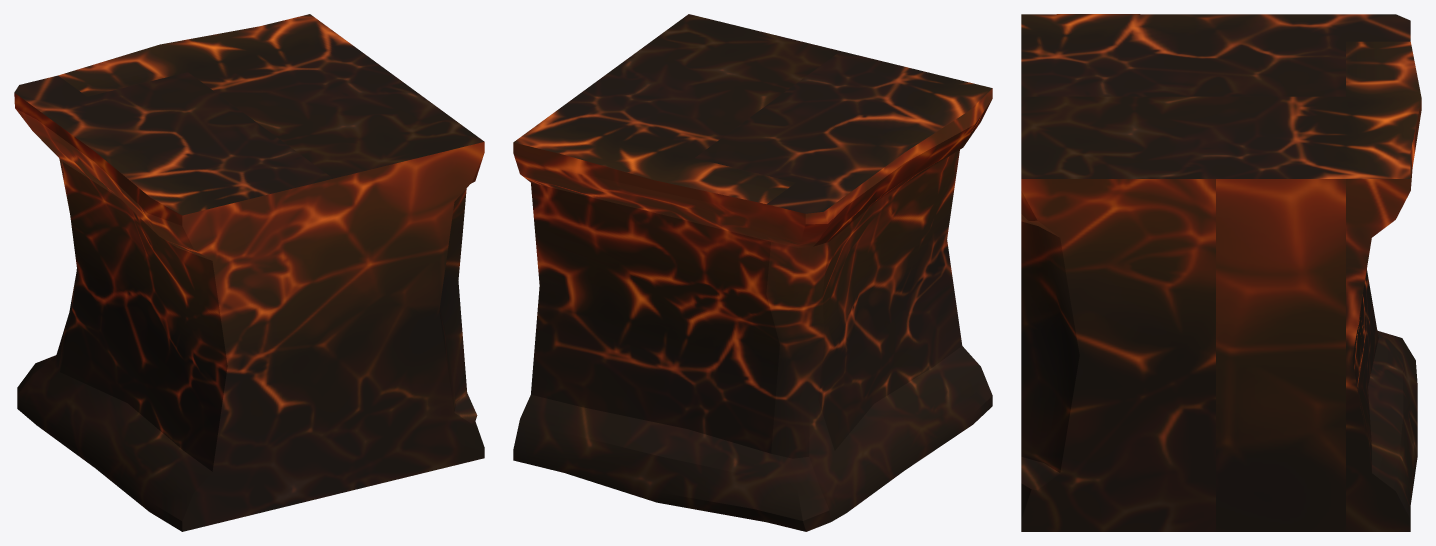
File: wall_15_turn_DL.fbx
3 views of the same model, side by side, from view 1: azimuth 30°, elevation 25°; view 2: azimuth 150°, elevation 25°; view 3: azimuth 270°, elevation 25° (orthographic). The views are drawn at different scales.
Visible parts, largest first — view 1: wall_15; view 2: wall_15; view 3: wall_15.
Boxes of the visible parts, <box> form: wall_15: <box>14,14,484,531</box>; wall_15: <box>513,14,992,531</box>; wall_15: <box>1021,14,1421,531</box>.
Bounding box in the file's own units: 103 × 102 × 103.
